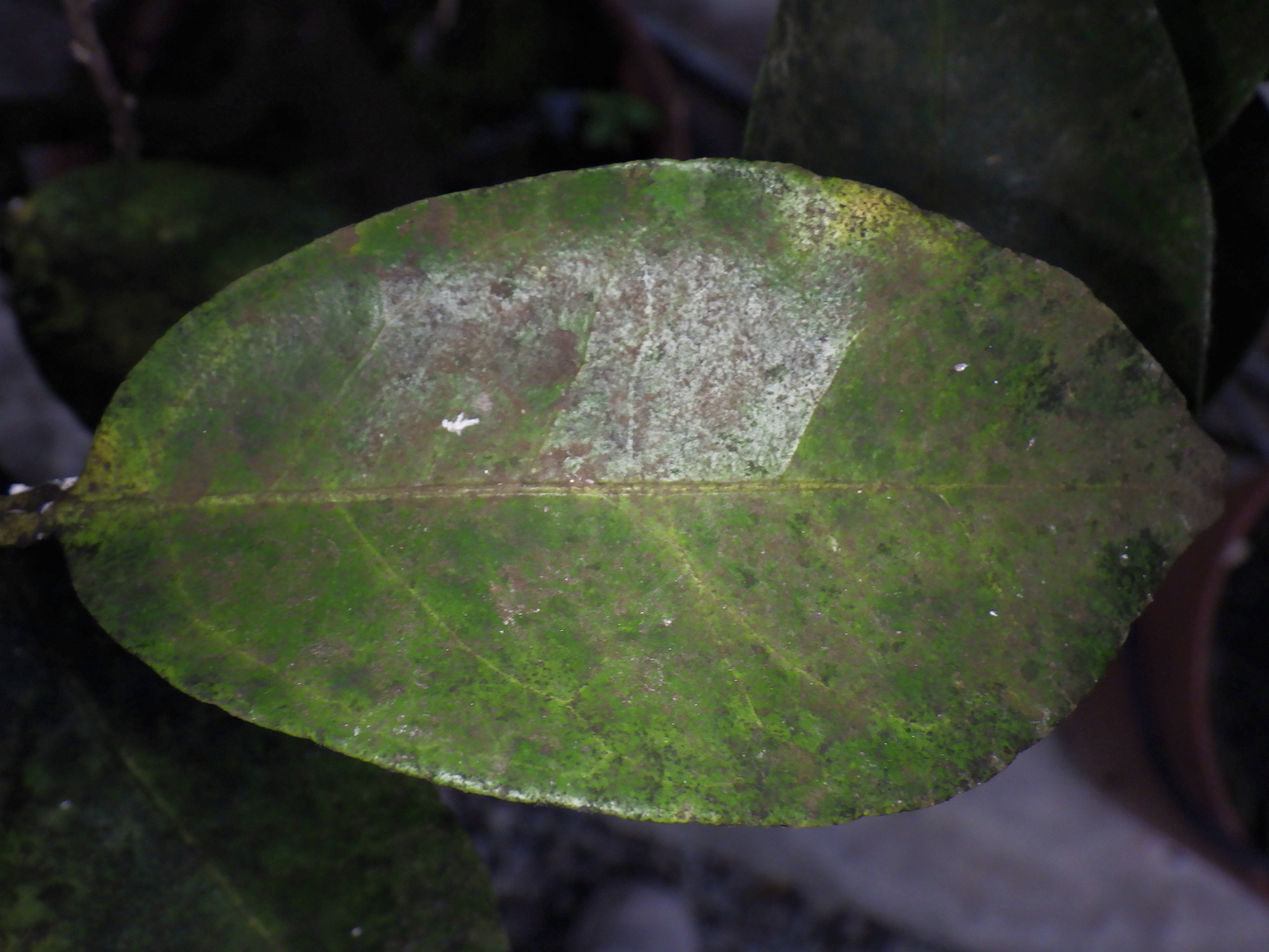Sooty_Mold: (46, 161, 1221, 824)
